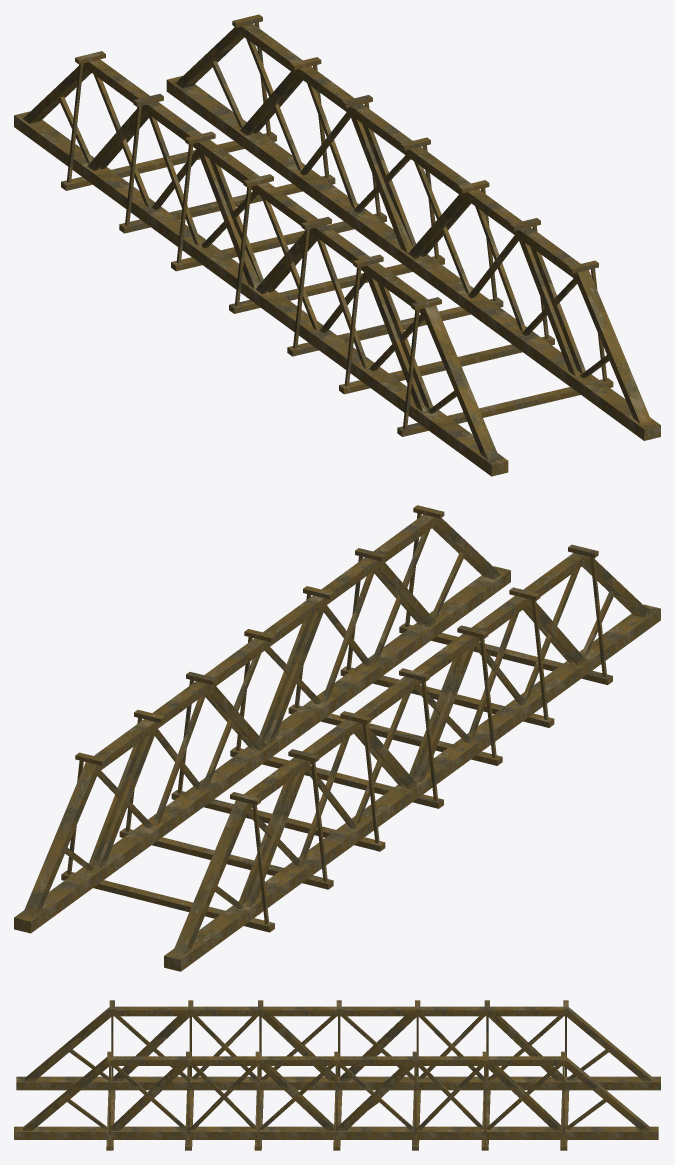
Rendered from des_woodbr_.obj.
The picture shows the model from 3 angles, top to bottom: view 1: azimuth 30°, elevation 25°; view 2: azimuth 150°, elevation 25°; view 3: azimuth 270°, elevation 25°; orthographic projection. The views are drawn at different scales.
Parts seen in each view (by area): view 1: des_woodbr_; view 2: des_woodbr_; view 3: des_woodbr_.
Boxes of the visible parts, x1,y1,x2,y2 form: des_woodbr_: (14, 14, 660, 476); des_woodbr_: (14, 505, 660, 971); des_woodbr_: (14, 1000, 660, 1150).
Bounding box in the file's own units: 14.46 × 8.38 × 57.4.
1 material, 1 textured.
